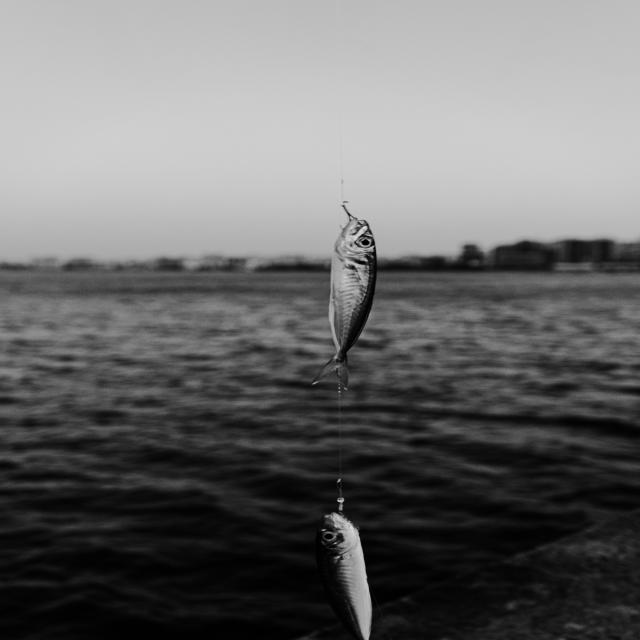Fish: (278, 483, 394, 640), (312, 202, 390, 380)
